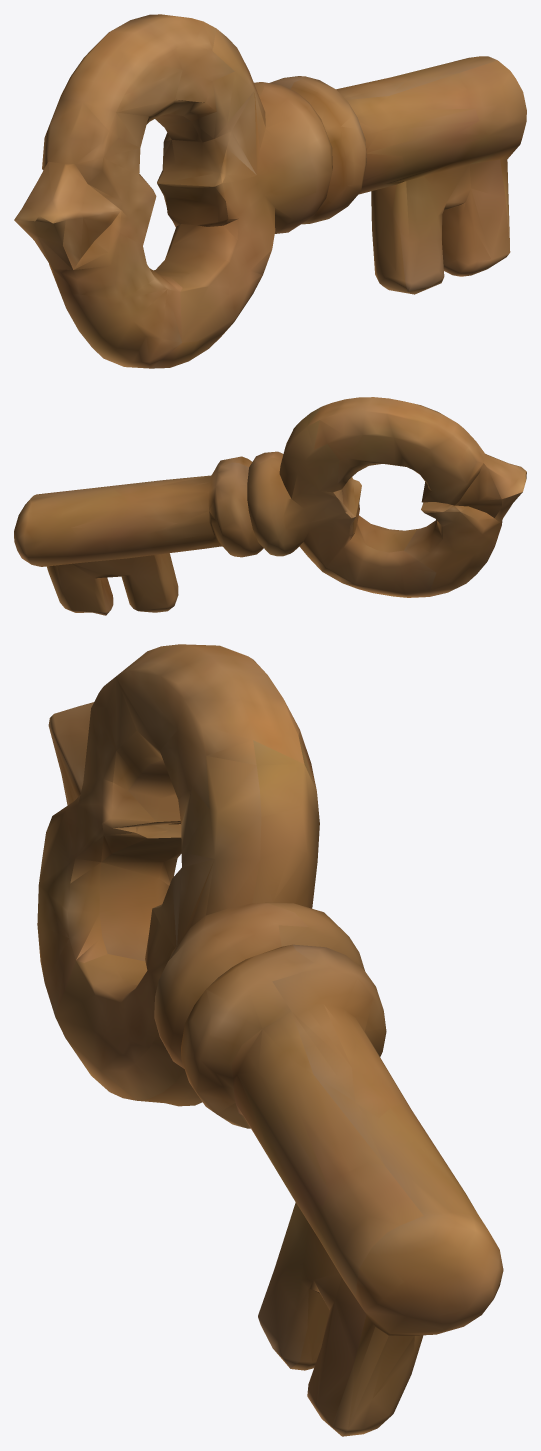
File: llave_pequena_1500.glb
The picture shows the model from 3 angles, top to bottom: view 1: azimuth 30°, elevation 25°; view 2: azimuth 150°, elevation 25°; view 3: azimuth 270°, elevation 25°; orthographic projection. The views are drawn at different scales.
Parts seen in each view (by area): view 1: llave_pequena_malla; view 2: llave_pequena_malla; view 3: llave_pequena_malla.
Boxes of the visible parts, x1,y1,x2,y2 form: llave_pequena_malla: (14, 14, 526, 368); llave_pequena_malla: (14, 397, 526, 615); llave_pequena_malla: (37, 644, 503, 1436).
Bounding box in the file's own units: 0.2363 × 0.1356 × 0.1131.
1 material, 1 textured.
